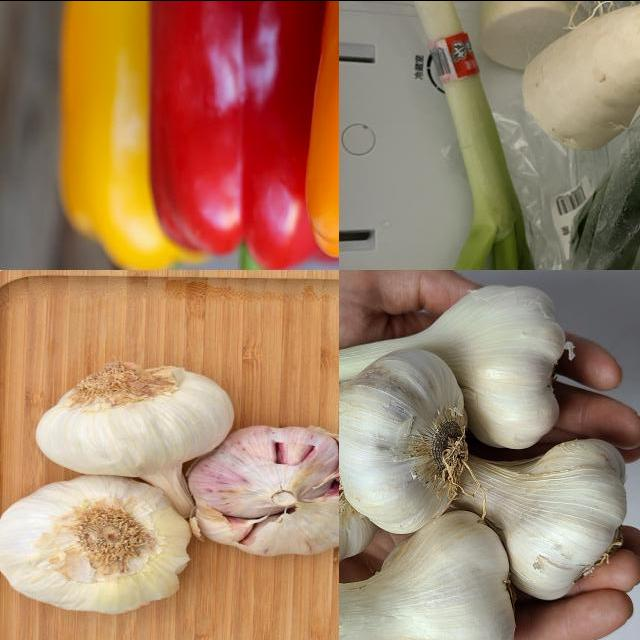bell_pepper: (153, 1, 327, 270), (52, 1, 163, 270)
garlic: (340, 270, 567, 455), (444, 432, 636, 601), (1, 474, 197, 617), (340, 497, 520, 640), (340, 346, 474, 536), (34, 359, 240, 477), (189, 424, 340, 560)
